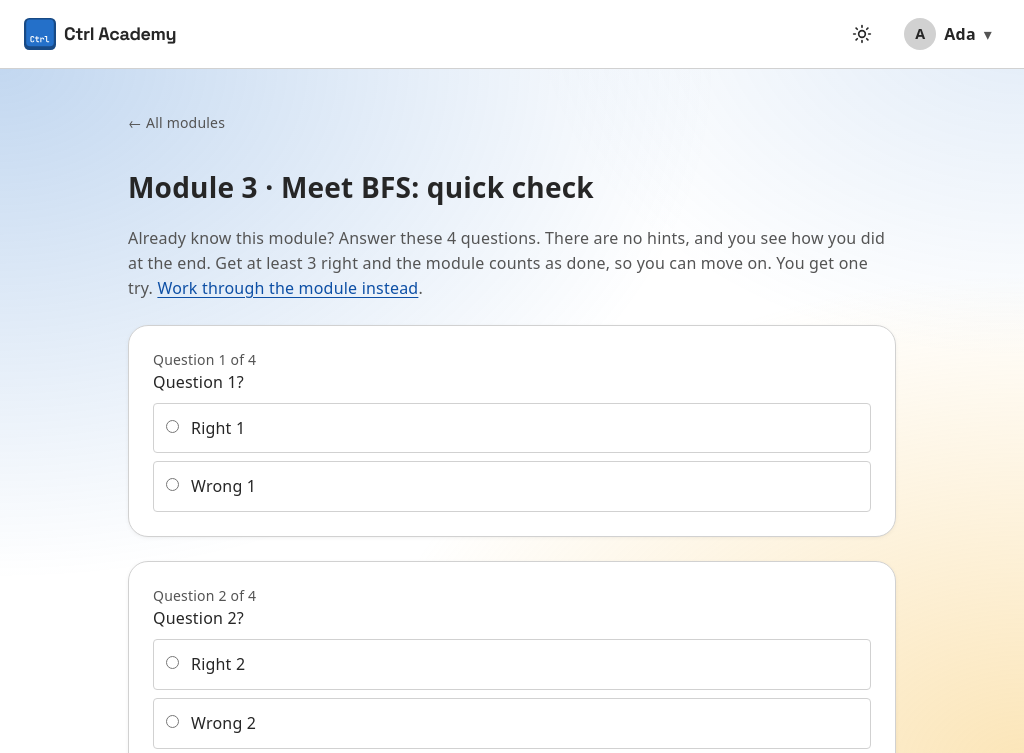
Scenario: QuickCheckPage (#214) › asks every question at once, with no hints, and sends one answer each
Expected: the heading "Module 3 · Meet BFS: quick check" is shown, [128,168,594,206]
Click the radio button labelled "Right 1".
click(172, 426)  # box [166,420,179,432]
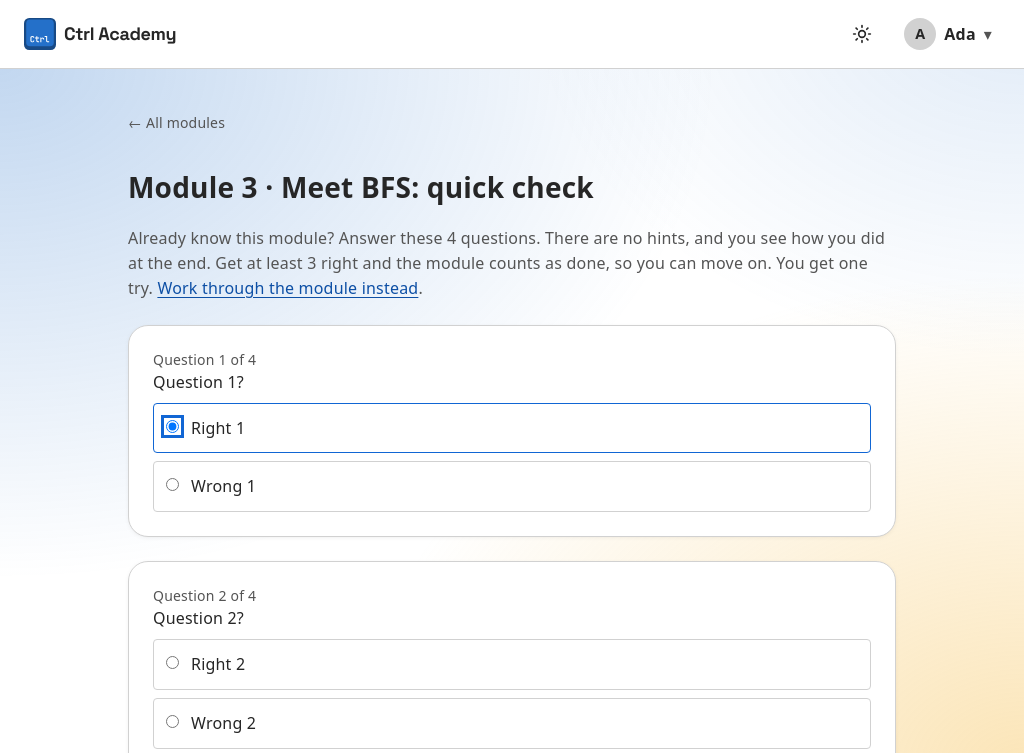
Click the radio button labelled "Right 2".
click(172, 662)  # box [166,656,179,669]
(page scrolled)
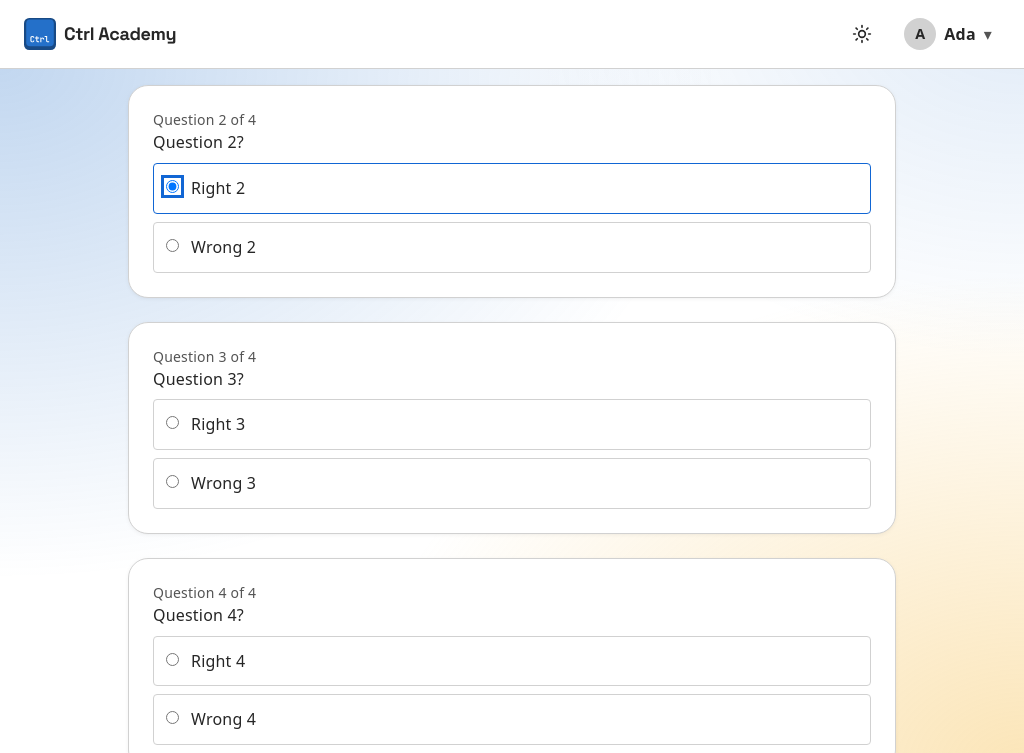
Click the radio button labelled "Right 3".
click(172, 423)  # box [166,416,179,429]
(page scrolled)
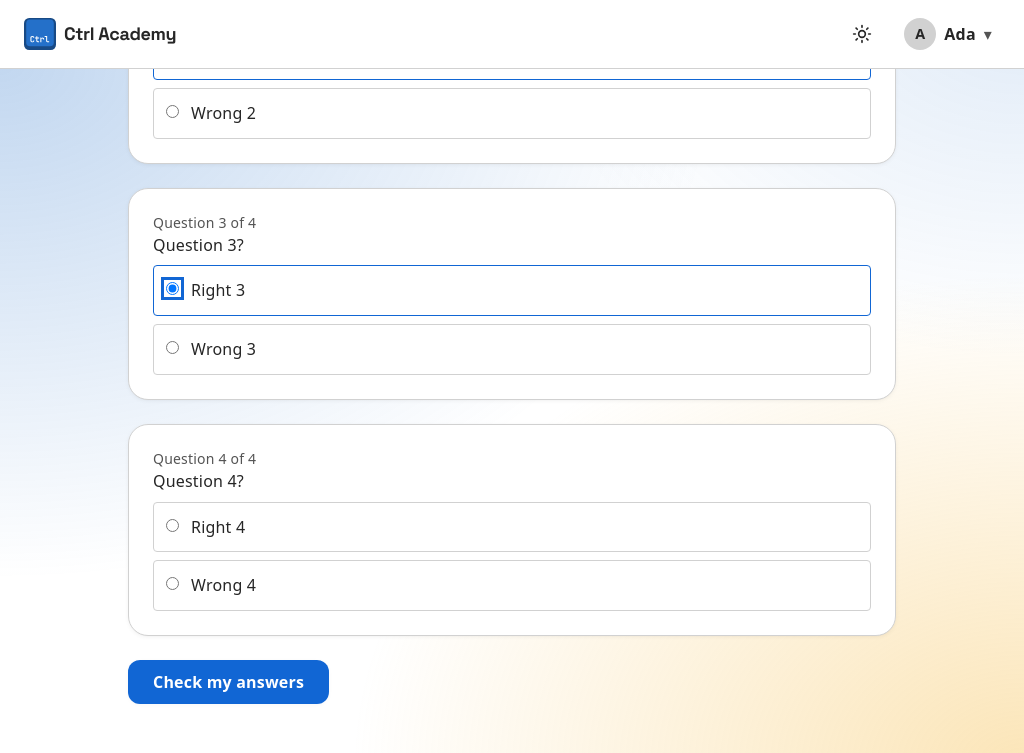
Click the button "Check my answers".
click(229, 682)  # box [128,660,329,704]
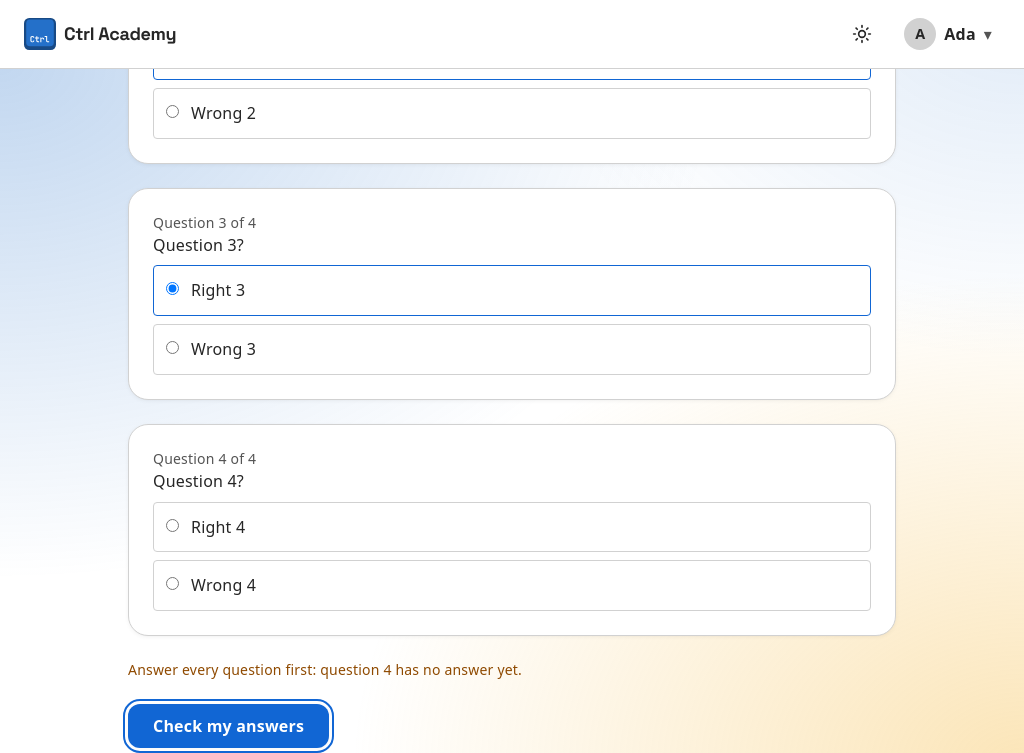
Expected: the message shows "question 4 has no answer yet", [128,660,522,679]
Click the radio button labelled "Wrong 4".
click(172, 584)  # box [166,578,179,590]
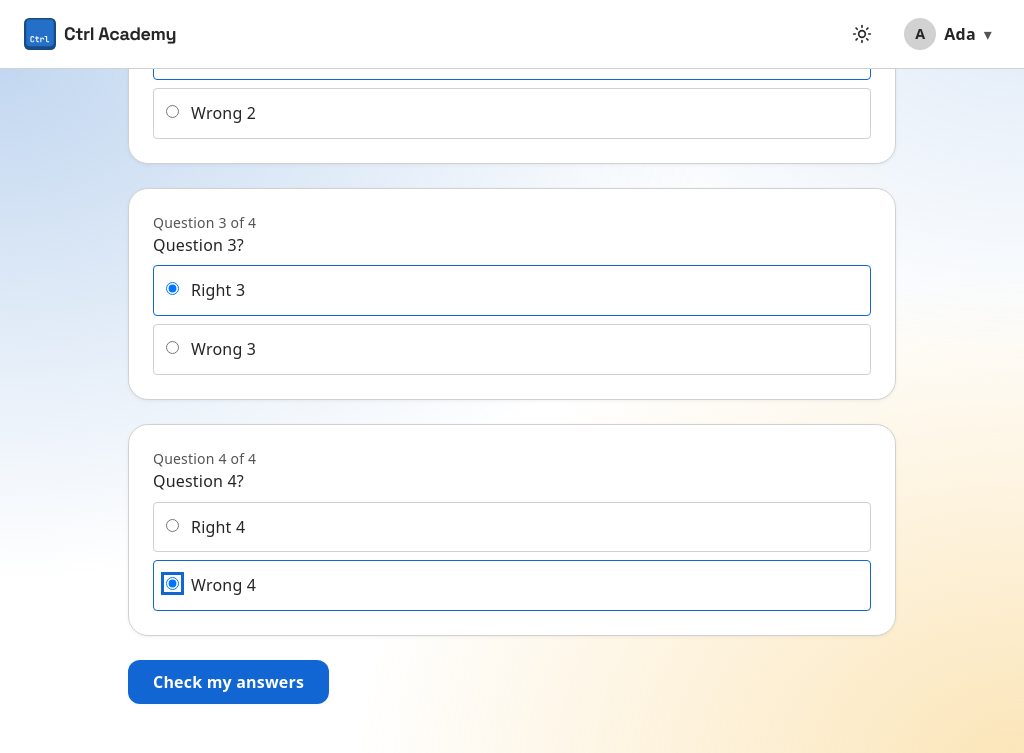
Click the button "Check my answers".
click(229, 682)  # box [128,660,329,704]
(page scrolled)
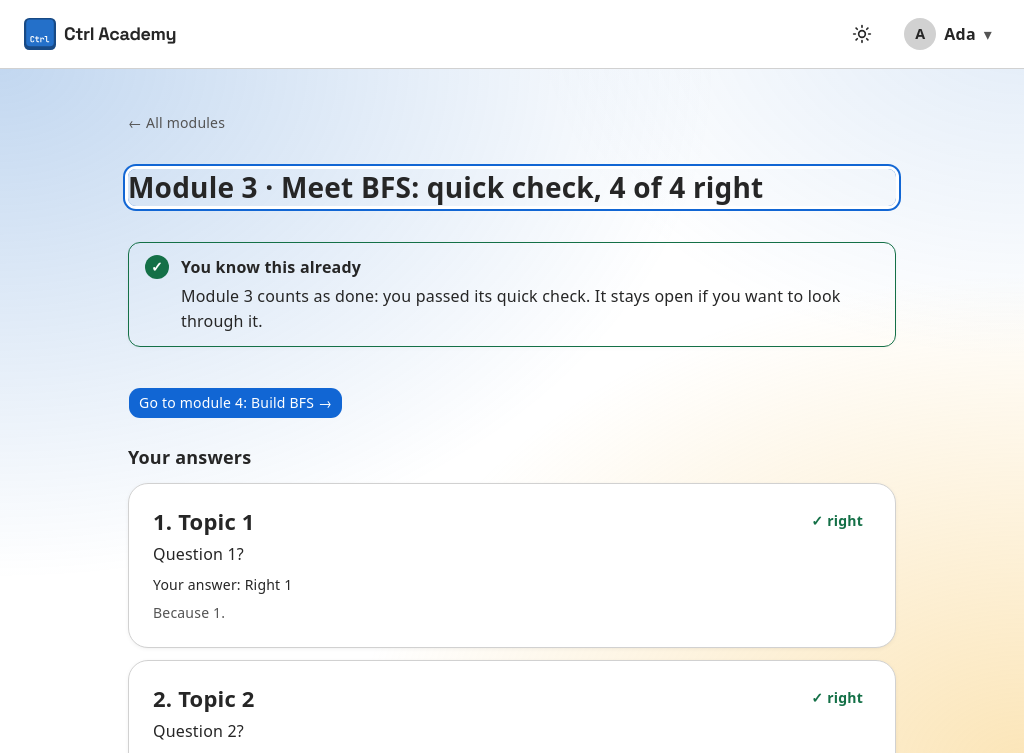
Expected: the heading "Module 3 · Meet BFS: quick check, 4 of 4 right" is shown, [128,169,896,206]
